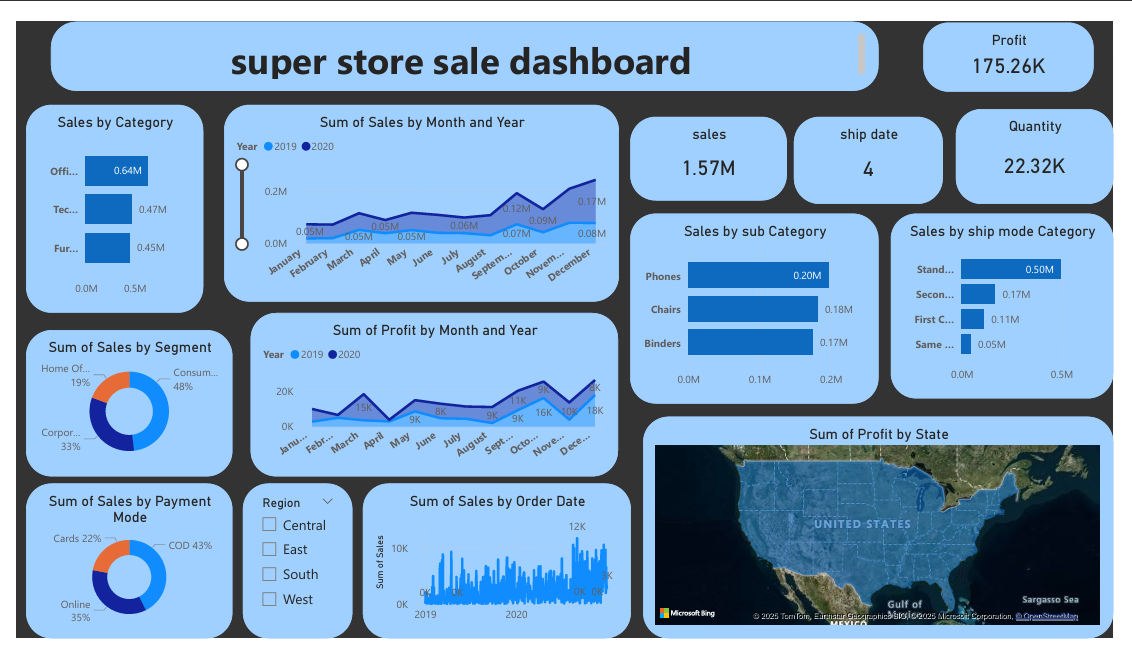

The dashboard page shown, as its layout file describes it:
{"tool":"powerbi","page":{"name":"Page 1","canvas":[1280,720],"ordinal":0},"visuals":[{"type":"clusteredBarChart","title":"Sales by sub Category","fields":{"Y":["Sum(SuperStore_Sales_Dataset.Sales)"],"Category":["SuperStore_Sales_Dataset.Sub-Category"]},"box":[716.3,223.7,289.5,222.3],"z":0},{"type":"clusteredBarChart","title":"Sales by Category","fields":{"Category":["SuperStore_Sales_Dataset.Category"],"Y":["Sum(SuperStore_Sales_Dataset.Sales)"]},"box":[11,97.4,207.2,242.9],"z":1000},{"type":"clusteredBarChart","title":"Sales by ship mode Category","fields":{"Y":["Sum(SuperStore_Sales_Dataset.Sales)"],"Category":["SuperStore_Sales_Dataset.Ship Mode"]},"box":[1019.6,223.7,260.7,216.8],"z":2000},{"type":"stackedAreaChart","fields":{"Y":["Sum(SuperStore_Sales_Dataset.Sales)"],"Category":["SuperStore_Sales_Dataset.Order Date.Variation.Date Hierarchy.Month","SuperStore_Sales_Dataset.Order Date.Variation.Date Hierarchy.Day"],"Series":["SuperStore_Sales_Dataset.Order Date.Variation.Date Hierarchy.Year"]},"box":[241.5,97.4,461.1,229.2],"z":3000},{"type":"stackedAreaChart","fields":{"Category":["SuperStore_Sales_Dataset.Order Date.Variation.Date Hierarchy.Month","SuperStore_Sales_Dataset.Order Date.Variation.Date Hierarchy.Day"],"Series":["SuperStore_Sales_Dataset.Order Date.Variation.Date Hierarchy.Year"],"Y":["Sum(SuperStore_Sales_Dataset.Profit)"]},"box":[272.7,340.2,429.5,190.6],"z":4000},{"type":"filledMap","fields":{"Category":["SuperStore_Sales_Dataset.State"]},"box":[731.4,461.1,548.9,259.3],"z":5000},{"type":"donutChart","fields":{"Category":["SuperStore_Sales_Dataset.Segment"],"Y":["Sum(SuperStore_Sales_Dataset.Sales)"]},"box":[11,359.5,241.5,171.5],"z":6000},{"type":"donutChart","fields":{"Category":["SuperStore_Sales_Dataset.Payment Mode"],"Y":["Sum(SuperStore_Sales_Dataset.Sales)"]},"box":[11,539.3,241.5,181.1],"z":7000},{"type":"slicer","fields":{"Values":["SuperStore_Sales_Dataset.Region"]},"box":[264.2,539.3,127.9,181],"z":8000},{"type":"textbox","box":[39.8,0,966,81],"z":9000},{"type":"card","title":"sales","fields":{"Values":["Sum(SuperStore_Sales_Dataset.Sales)"]},"box":[716.3,111.1,182.5,97.4],"z":10000},{"type":"card","title":"ship date","fields":{"Values":["Avg(SuperStore_Sales_Dataset.average_delivery)"]},"box":[907,111.1,174.3,101.5],"z":11000},{"type":"card","title":"Profit","fields":{"Values":["Sum(SuperStore_Sales_Dataset.Profit)"]},"box":[1058,1.2,199.1,80.8],"z":12000},{"type":"card","title":"Quantity","fields":{"Values":["Sum(SuperStore_Sales_Dataset.Quantity)"]},"box":[1096.4,101.5,183.9,111.1],"z":13000},{"type":"lineChart","fields":{"Y":["Sum(SuperStore_Sales_Dataset.Sales)"],"Category":["SuperStore_Sales_Dataset.Order Date"]},"box":[404.2,539.3,312.5,181],"z":14000}]}

Visuals, with their boxes in screenshot pixels (x1, y1, x2, y2), scaled from the page's 1280x720 canvas onto the 1132x655 screenshot:
"Sales by sub Category" clusteredBarChart: Rect(633, 204, 890, 406)
"Sales by Category" clusteredBarChart: Rect(10, 89, 193, 310)
"Sales by ship mode Category" clusteredBarChart: Rect(902, 204, 1131, 401)
stackedAreaChart - Sum(SuperStore_Sales_Dataset.Sales) x SuperStore_Sales_Dataset.Order Date.Variation.Date Hierarchy.Month: Rect(214, 89, 621, 297)
stackedAreaChart - SuperStore_Sales_Dataset.Order Date.Variation.Date Hierarchy.Month x SuperStore_Sales_Dataset.Order Date.Variation.Date Hierarchy.Day: Rect(241, 309, 621, 483)
filledMap - SuperStore_Sales_Dataset.State: Rect(647, 419, 1131, 654)
donutChart - SuperStore_Sales_Dataset.Segment x Sum(SuperStore_Sales_Dataset.Sales): Rect(10, 327, 223, 483)
donutChart - SuperStore_Sales_Dataset.Payment Mode x Sum(SuperStore_Sales_Dataset.Sales): Rect(10, 491, 223, 654)
slicer - SuperStore_Sales_Dataset.Region: Rect(234, 491, 347, 654)
textbox: Rect(35, 0, 890, 74)
"sales" card: Rect(633, 101, 795, 190)
"ship date" card: Rect(802, 101, 956, 193)
"Profit" card: Rect(936, 1, 1112, 75)
"Quantity" card: Rect(970, 92, 1131, 193)
lineChart - Sum(SuperStore_Sales_Dataset.Sales) x SuperStore_Sales_Dataset.Order Date: Rect(357, 491, 634, 654)
